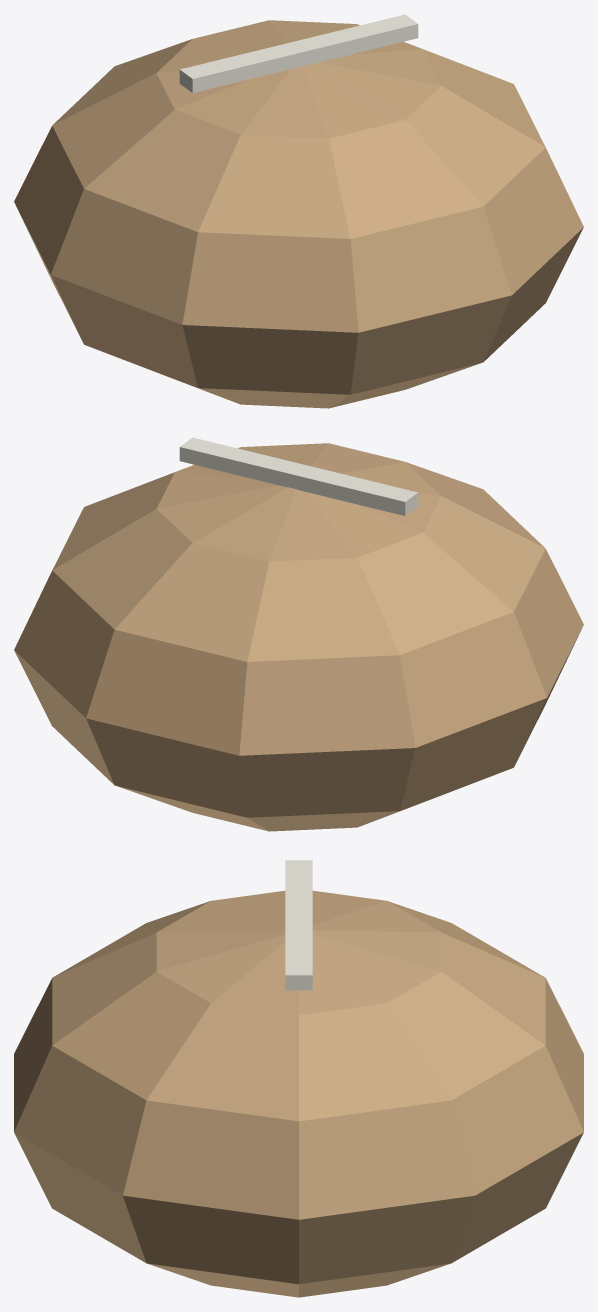
The model's file is supermarket-operations-round-loaf-8ad97e2c__26870.glb.
3 views of the same model, one above another, from view 1: azimuth 30°, elevation 25°; view 2: azimuth 150°, elevation 25°; view 3: azimuth 270°, elevation 25° (orthographic). The views are drawn at different scales.
Visible parts, largest first — view 1: round-loaf; view 2: round-loaf; view 3: round-loaf.
Boxes of the visible parts, x1,y1,x2,y2 form: round-loaf: [14, 14, 583, 408]; round-loaf: [14, 437, 583, 831]; round-loaf: [14, 860, 583, 1297].
Size of the model in its own units: 0.22 by 0.137 by 0.2092.
